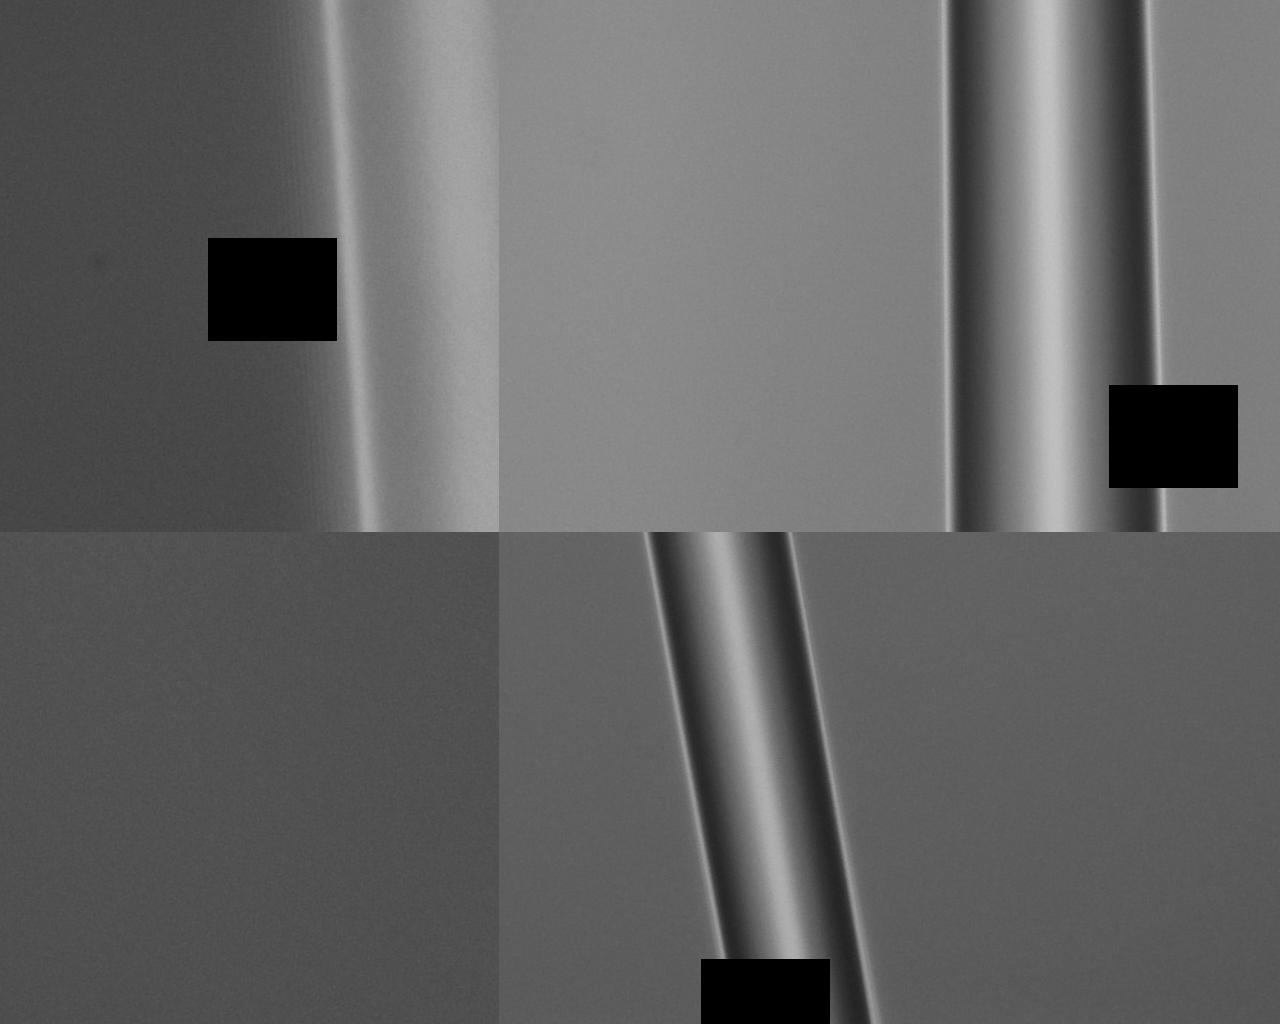fiber: (0, 522, 925, 1024), (67, 183, 960, 414), (1032, 957, 1280, 1015)
